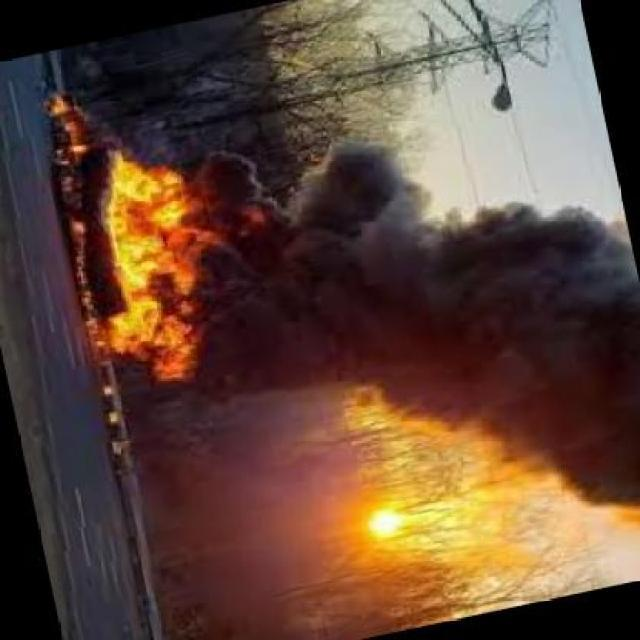Fire: (77, 152, 219, 410)
Smoke: (376, 184, 640, 496), (211, 143, 415, 396)
